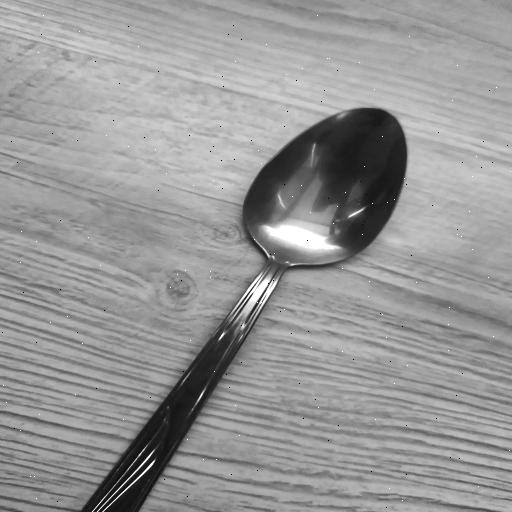spoon: (78, 109, 410, 512)
